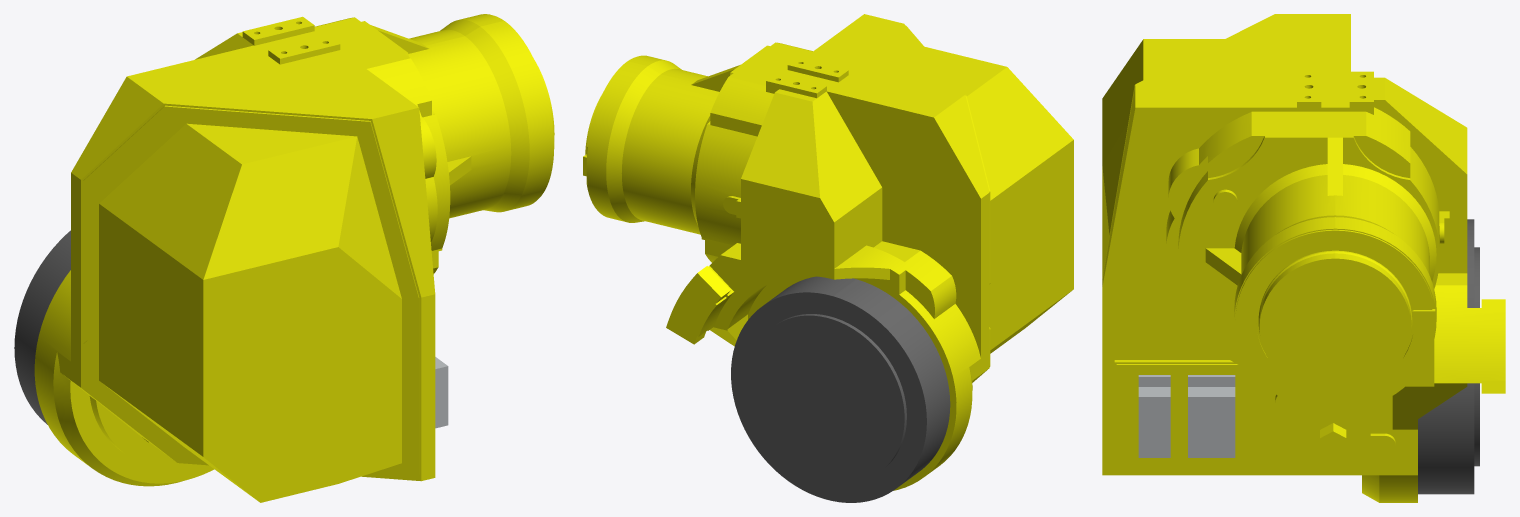
3 views of the same model, side by side, from view 1: azimuth 30°, elevation 25°; view 2: azimuth 150°, elevation 25°; view 3: azimuth 270°, elevation 25° (orthographic). The views are drawn at different scales.
Parts seen in each view (by area): view 1: Mesh_0; view 2: Mesh_0; view 3: Mesh_0.
Part boxes in pixels (left/top/right/bottom): Mesh_0: left=14, top=14, right=554, bottom=502; Mesh_0: left=583, top=14, right=1073, bottom=502; Mesh_0: left=1102, top=14, right=1505, bottom=502.
Size of the model in its own units: 0.477 by 0.3672 by 0.451.
